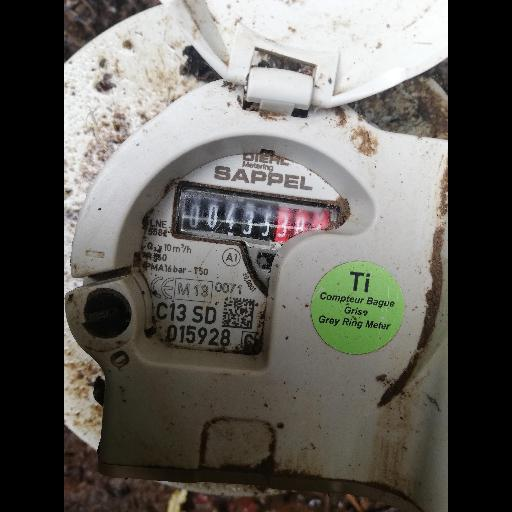0: (181, 191, 207, 232), (202, 193, 227, 234)
3: (238, 199, 262, 239), (274, 206, 297, 245)
4: (221, 196, 243, 236)
5: (257, 202, 280, 242)
8: (293, 209, 312, 240)
border_water_meter_number: (175, 184, 341, 254)
